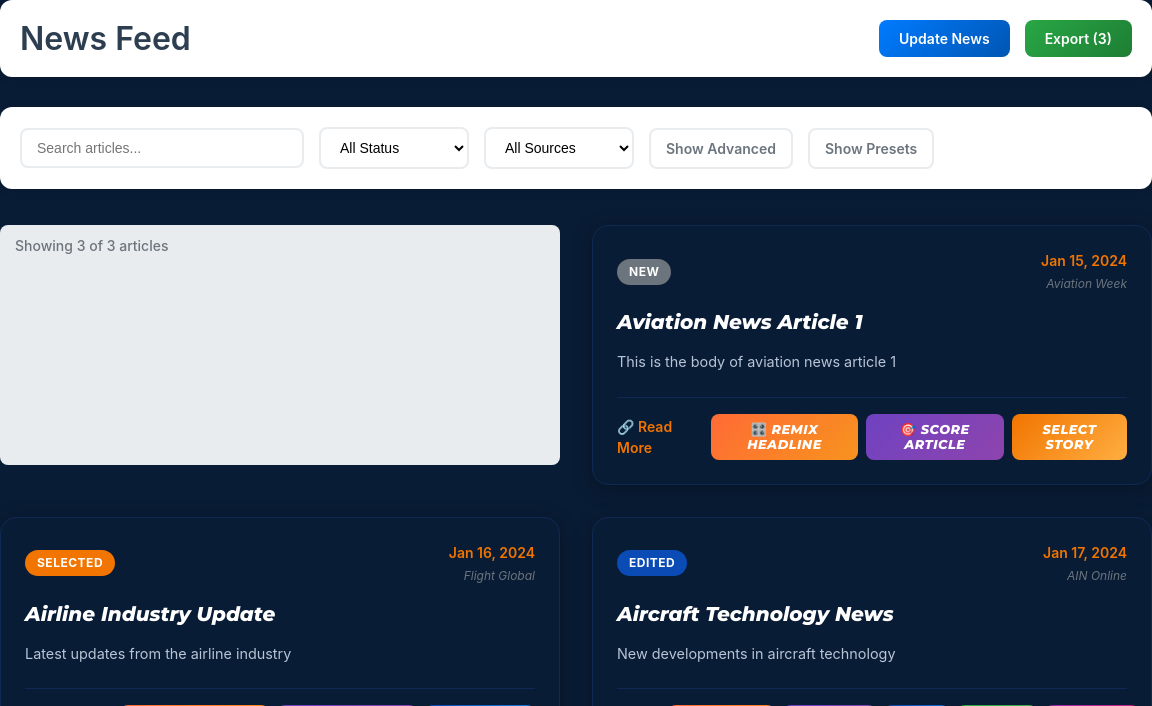
Test case: Feed Component › Search Functionality › filters articles by search term
The width and height of the screenshot is (1152, 706).
Expected: the heading "Aviation News Article 1" is shown, [617,310,862,334]
Step 1. Type "aviation" into the field with placeholder "Search articles..." → (162, 148), box [20,128,304,168]
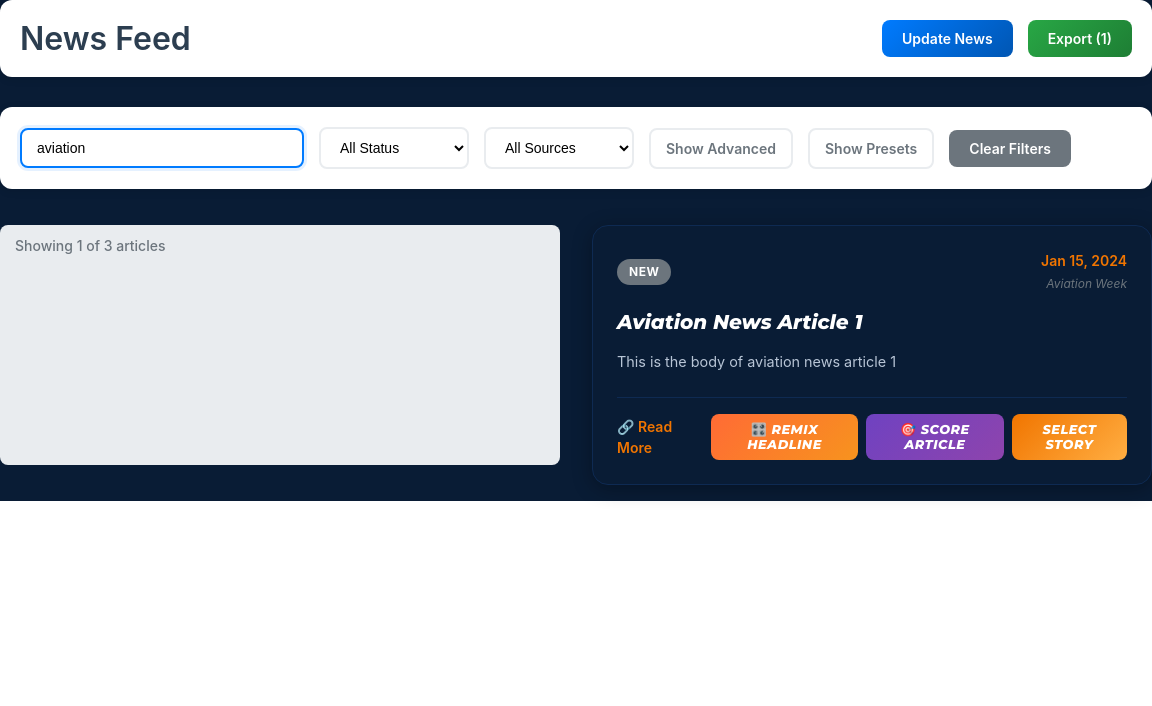
Expected: the heading "Aviation News Article 1" is shown, [617,310,862,334]
Expected: the heading "Airline Industry Update" is gone
Expected: the heading "Aircraft Technology News" is gone
